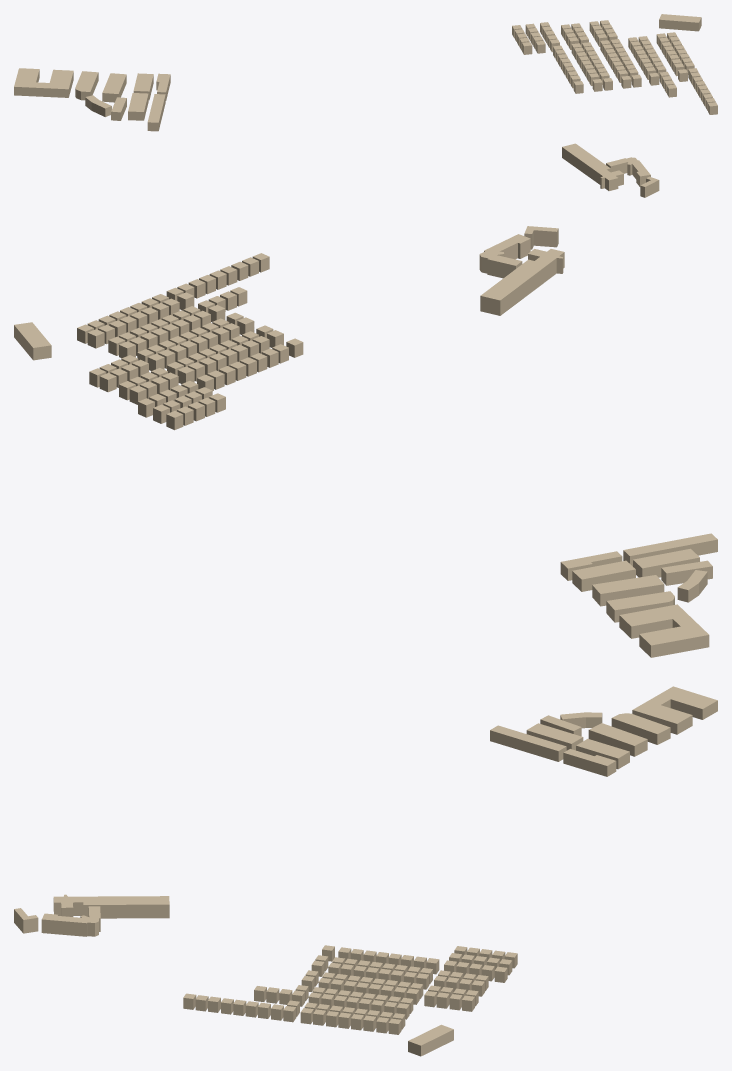
The model's file is -8_16-estimated-coarse.glb.
3 views of the same model, one above another, from view 1: azimuth 30°, elevation 25°; view 2: azimuth 150°, elevation 25°; view 3: azimuth 270°, elevation 25° (orthographic). The views are drawn at different scales.
Size of the model in its own units: 849 by 15 by 703.
